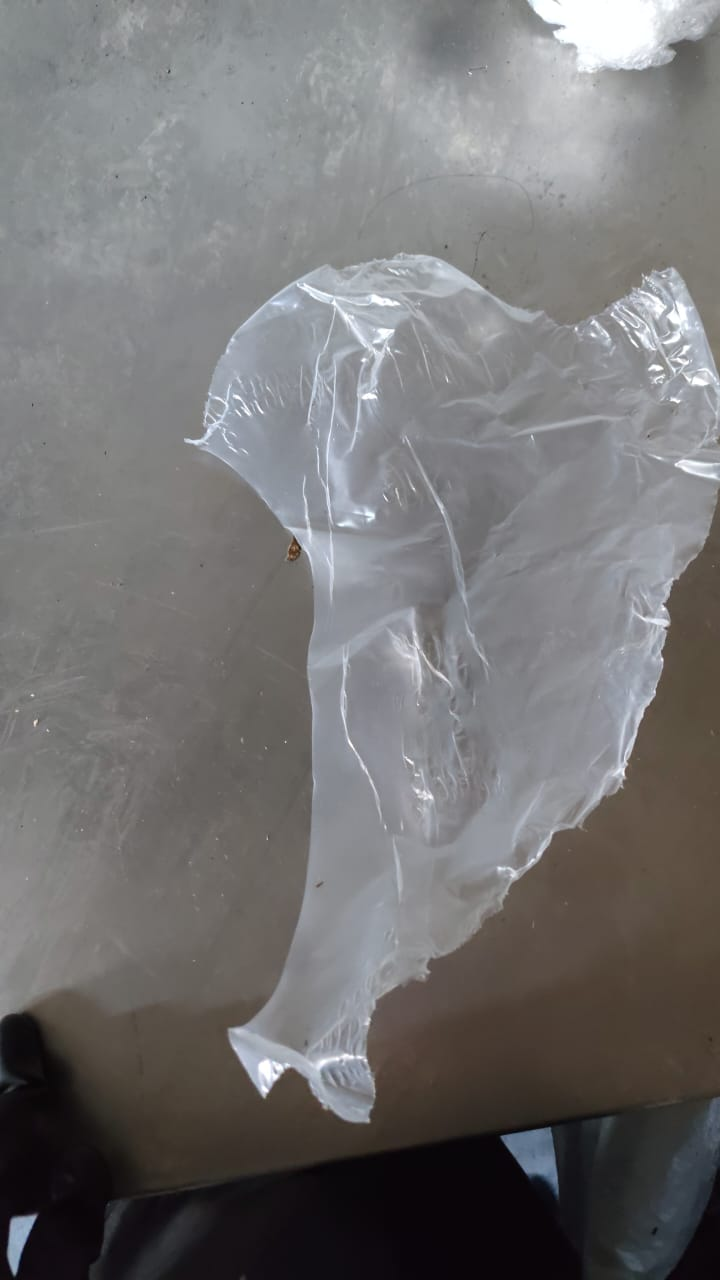Plastico: (182, 254, 720, 1128)
